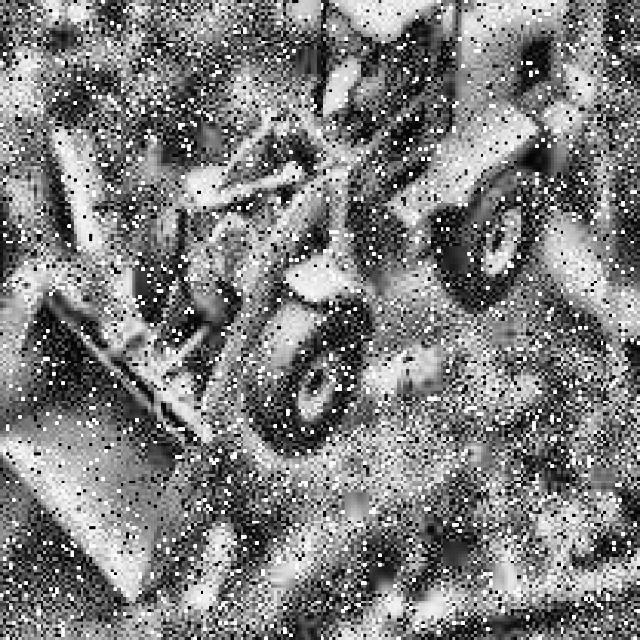buldozerpayloadergrader: (0, 0, 594, 634)
